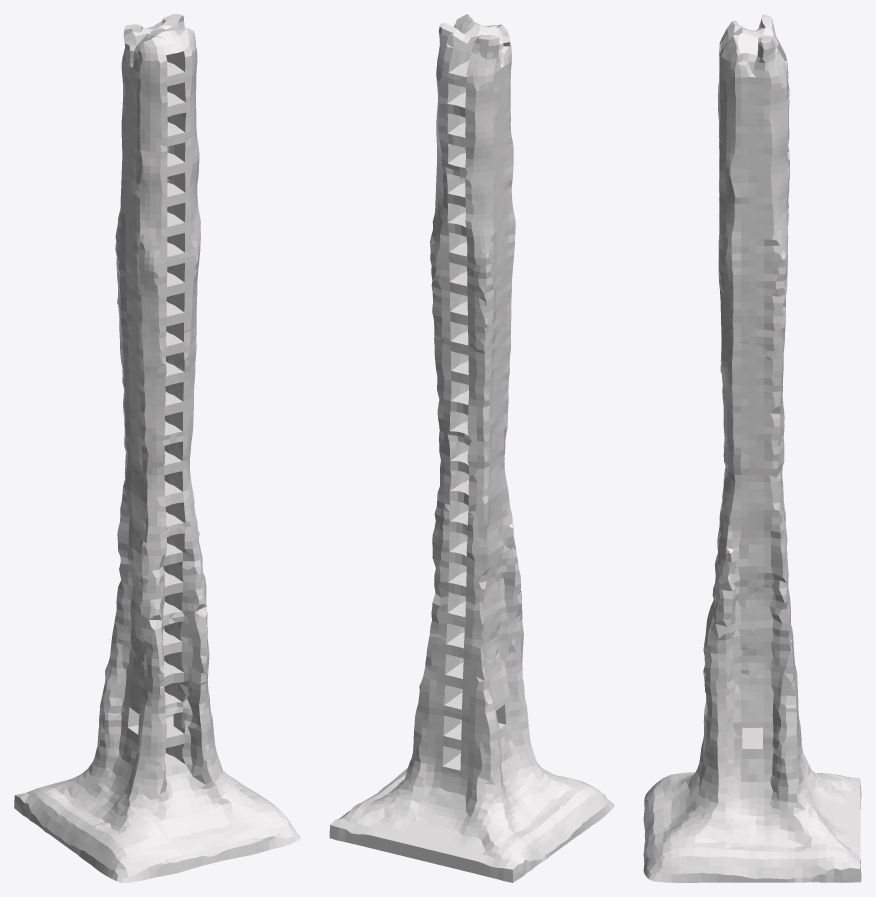
The model's file is BasePilar.fbx.
3 views of the same model, side by side, from view 1: azimuth 30°, elevation 25°; view 2: azimuth 150°, elevation 25°; view 3: azimuth 270°, elevation 25° (orthographic).
Parts seen in each view (by area): view 1: Baseilar; view 2: Baseilar; view 3: Baseilar.
Boxes of the visible parts, <box> form: Baseilar: <box>14,14,300,882</box>; Baseilar: <box>329,14,614,882</box>; Baseilar: <box>643,14,861,882</box>.
Bounding box in the file's own units: 11372 × 11342 × 46450.
Materials: 1 (1 with a texture image).
